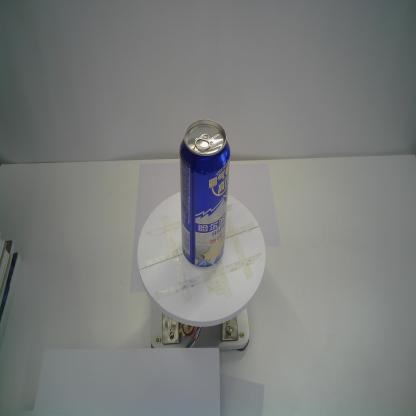Alcohol: (179, 118, 231, 269)
